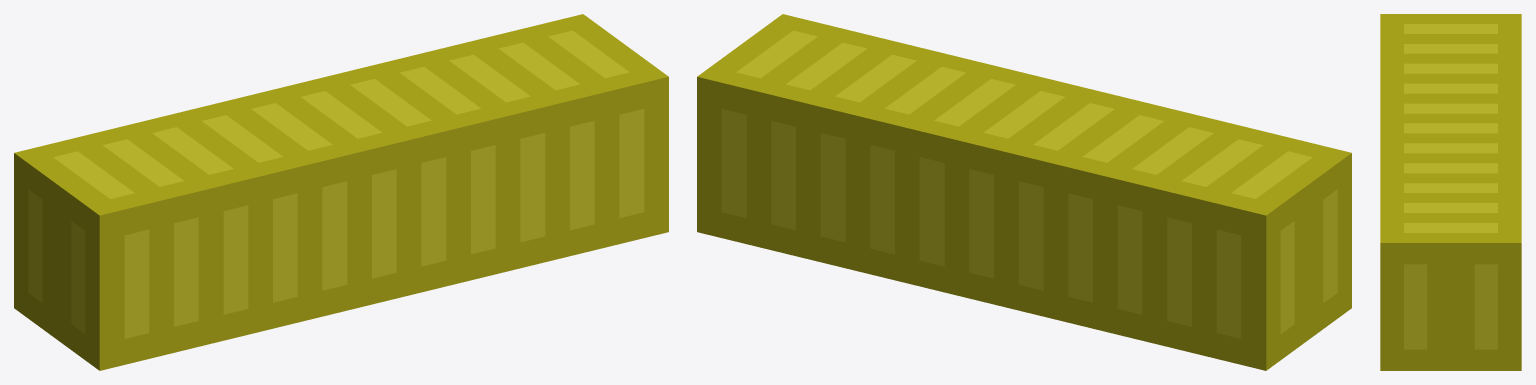
File: container-yellow.gltf
3 renders of one model, left to right at view 1: azimuth 30°, elevation 25°; view 2: azimuth 150°, elevation 25°; view 3: azimuth 270°, elevation 25°, orthographic. The views are drawn at different scales.
Visible parts, largest first — view 1: model; view 2: model; view 3: model.
Part boxes in pixels (<box>): model: <box>14,14,668,370</box>; model: <box>697,14,1351,370</box>; model: <box>1380,14,1521,370</box>.
Size of the model in its own units: 2.3 by 0.6 by 0.6.
1 material, 1 textured.
